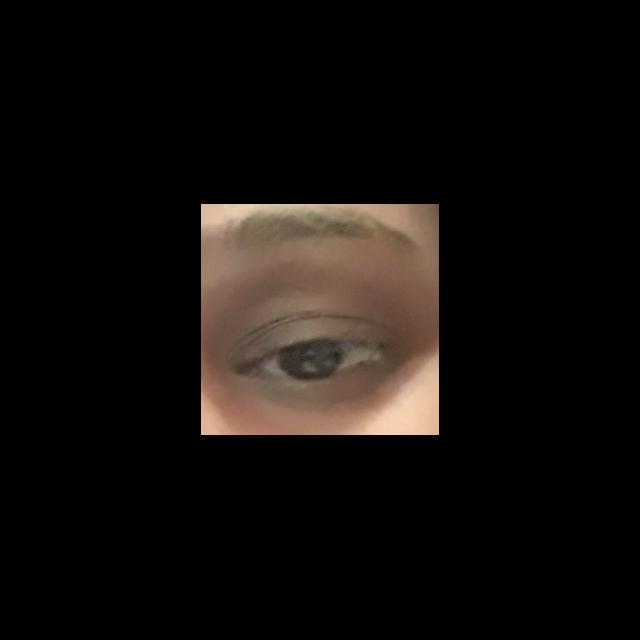eye: (253, 344, 381, 380)
iris: (278, 346, 343, 378)
